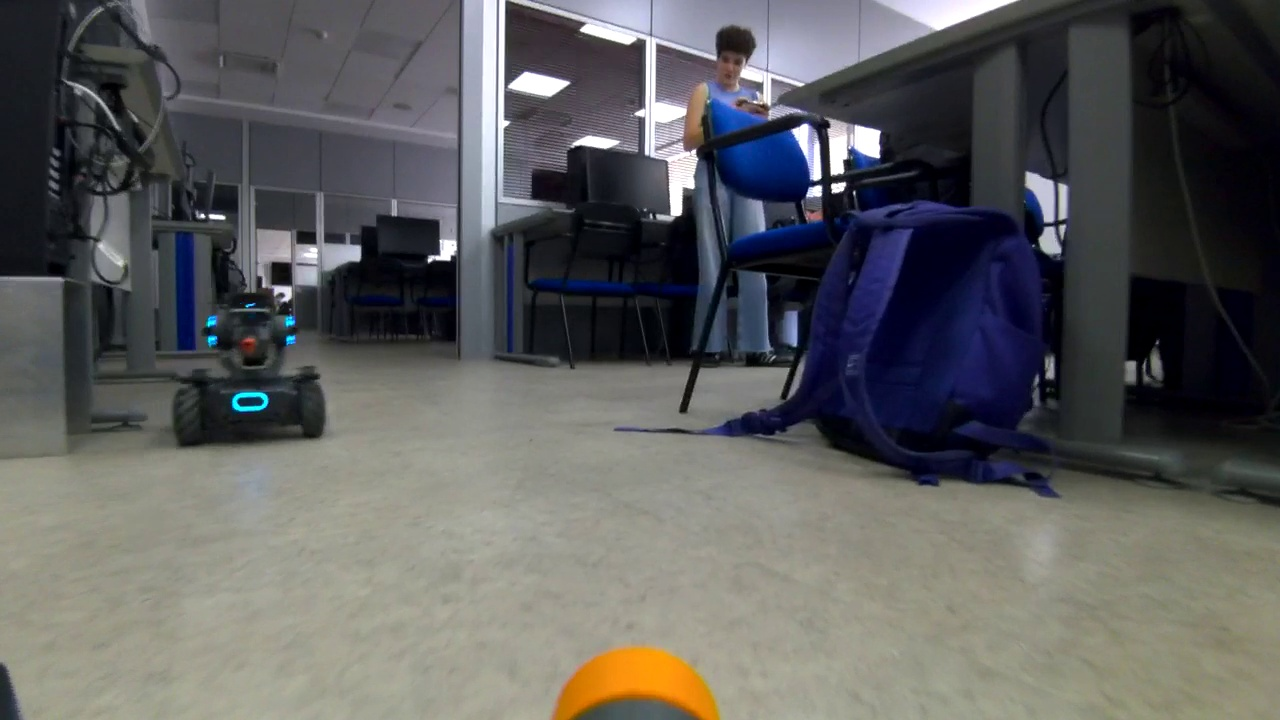robot: (166, 274, 336, 453)
